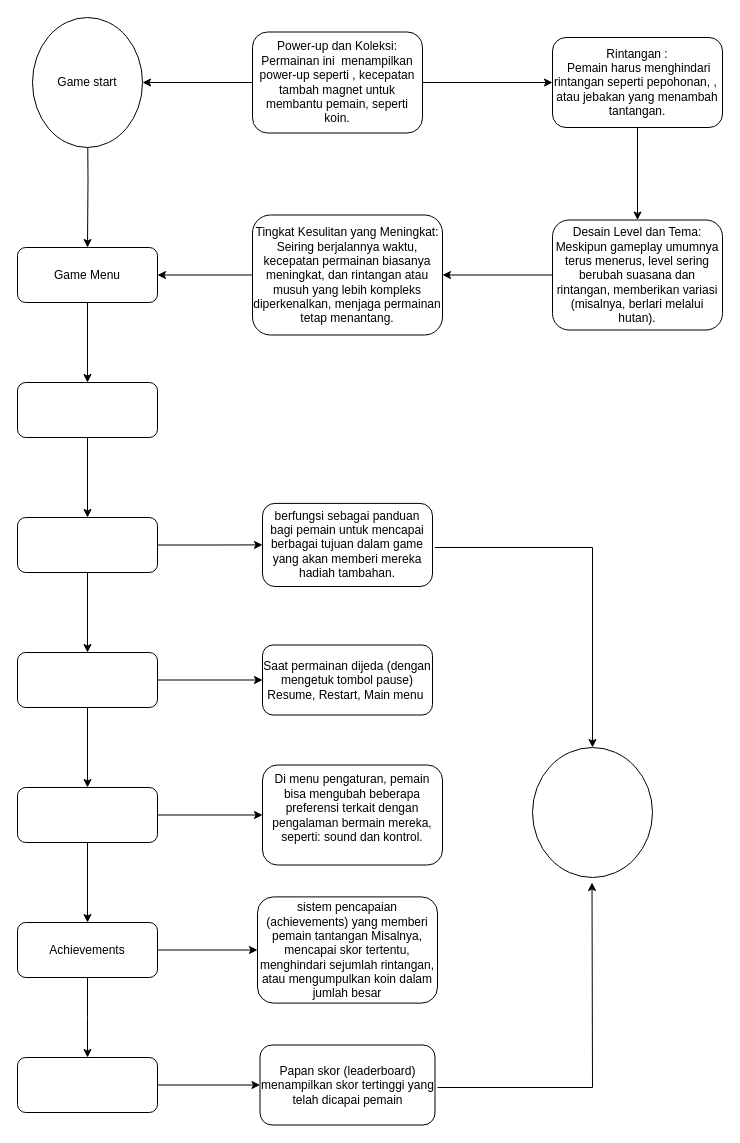
The diagram is 740 pixels wide and 1143 high, and some of its shapes have lost their labels. The shapes that lost their labels are listed below. From the top down, each one's centre as x and y in pixels, then its label:
At point 87,410: "Play".
At point 87,544: "Objectives".
At point 87,680: "Pause".
At point 87,814: "setting".
At point 592,812: "Finish".
At point 87,1084: "Leaderboard".
